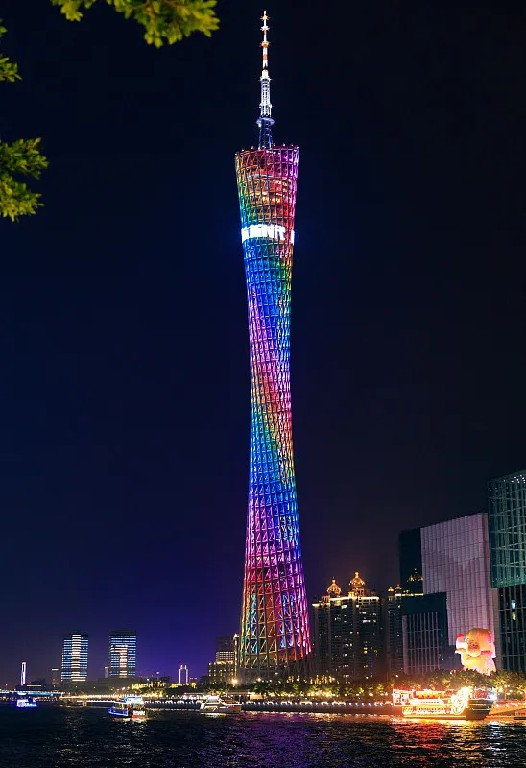Canton: (226, 9, 312, 691)
